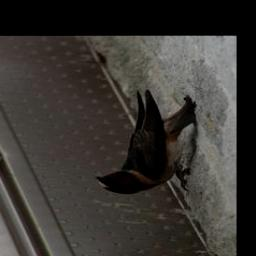Swallow: (96, 90, 201, 195)
